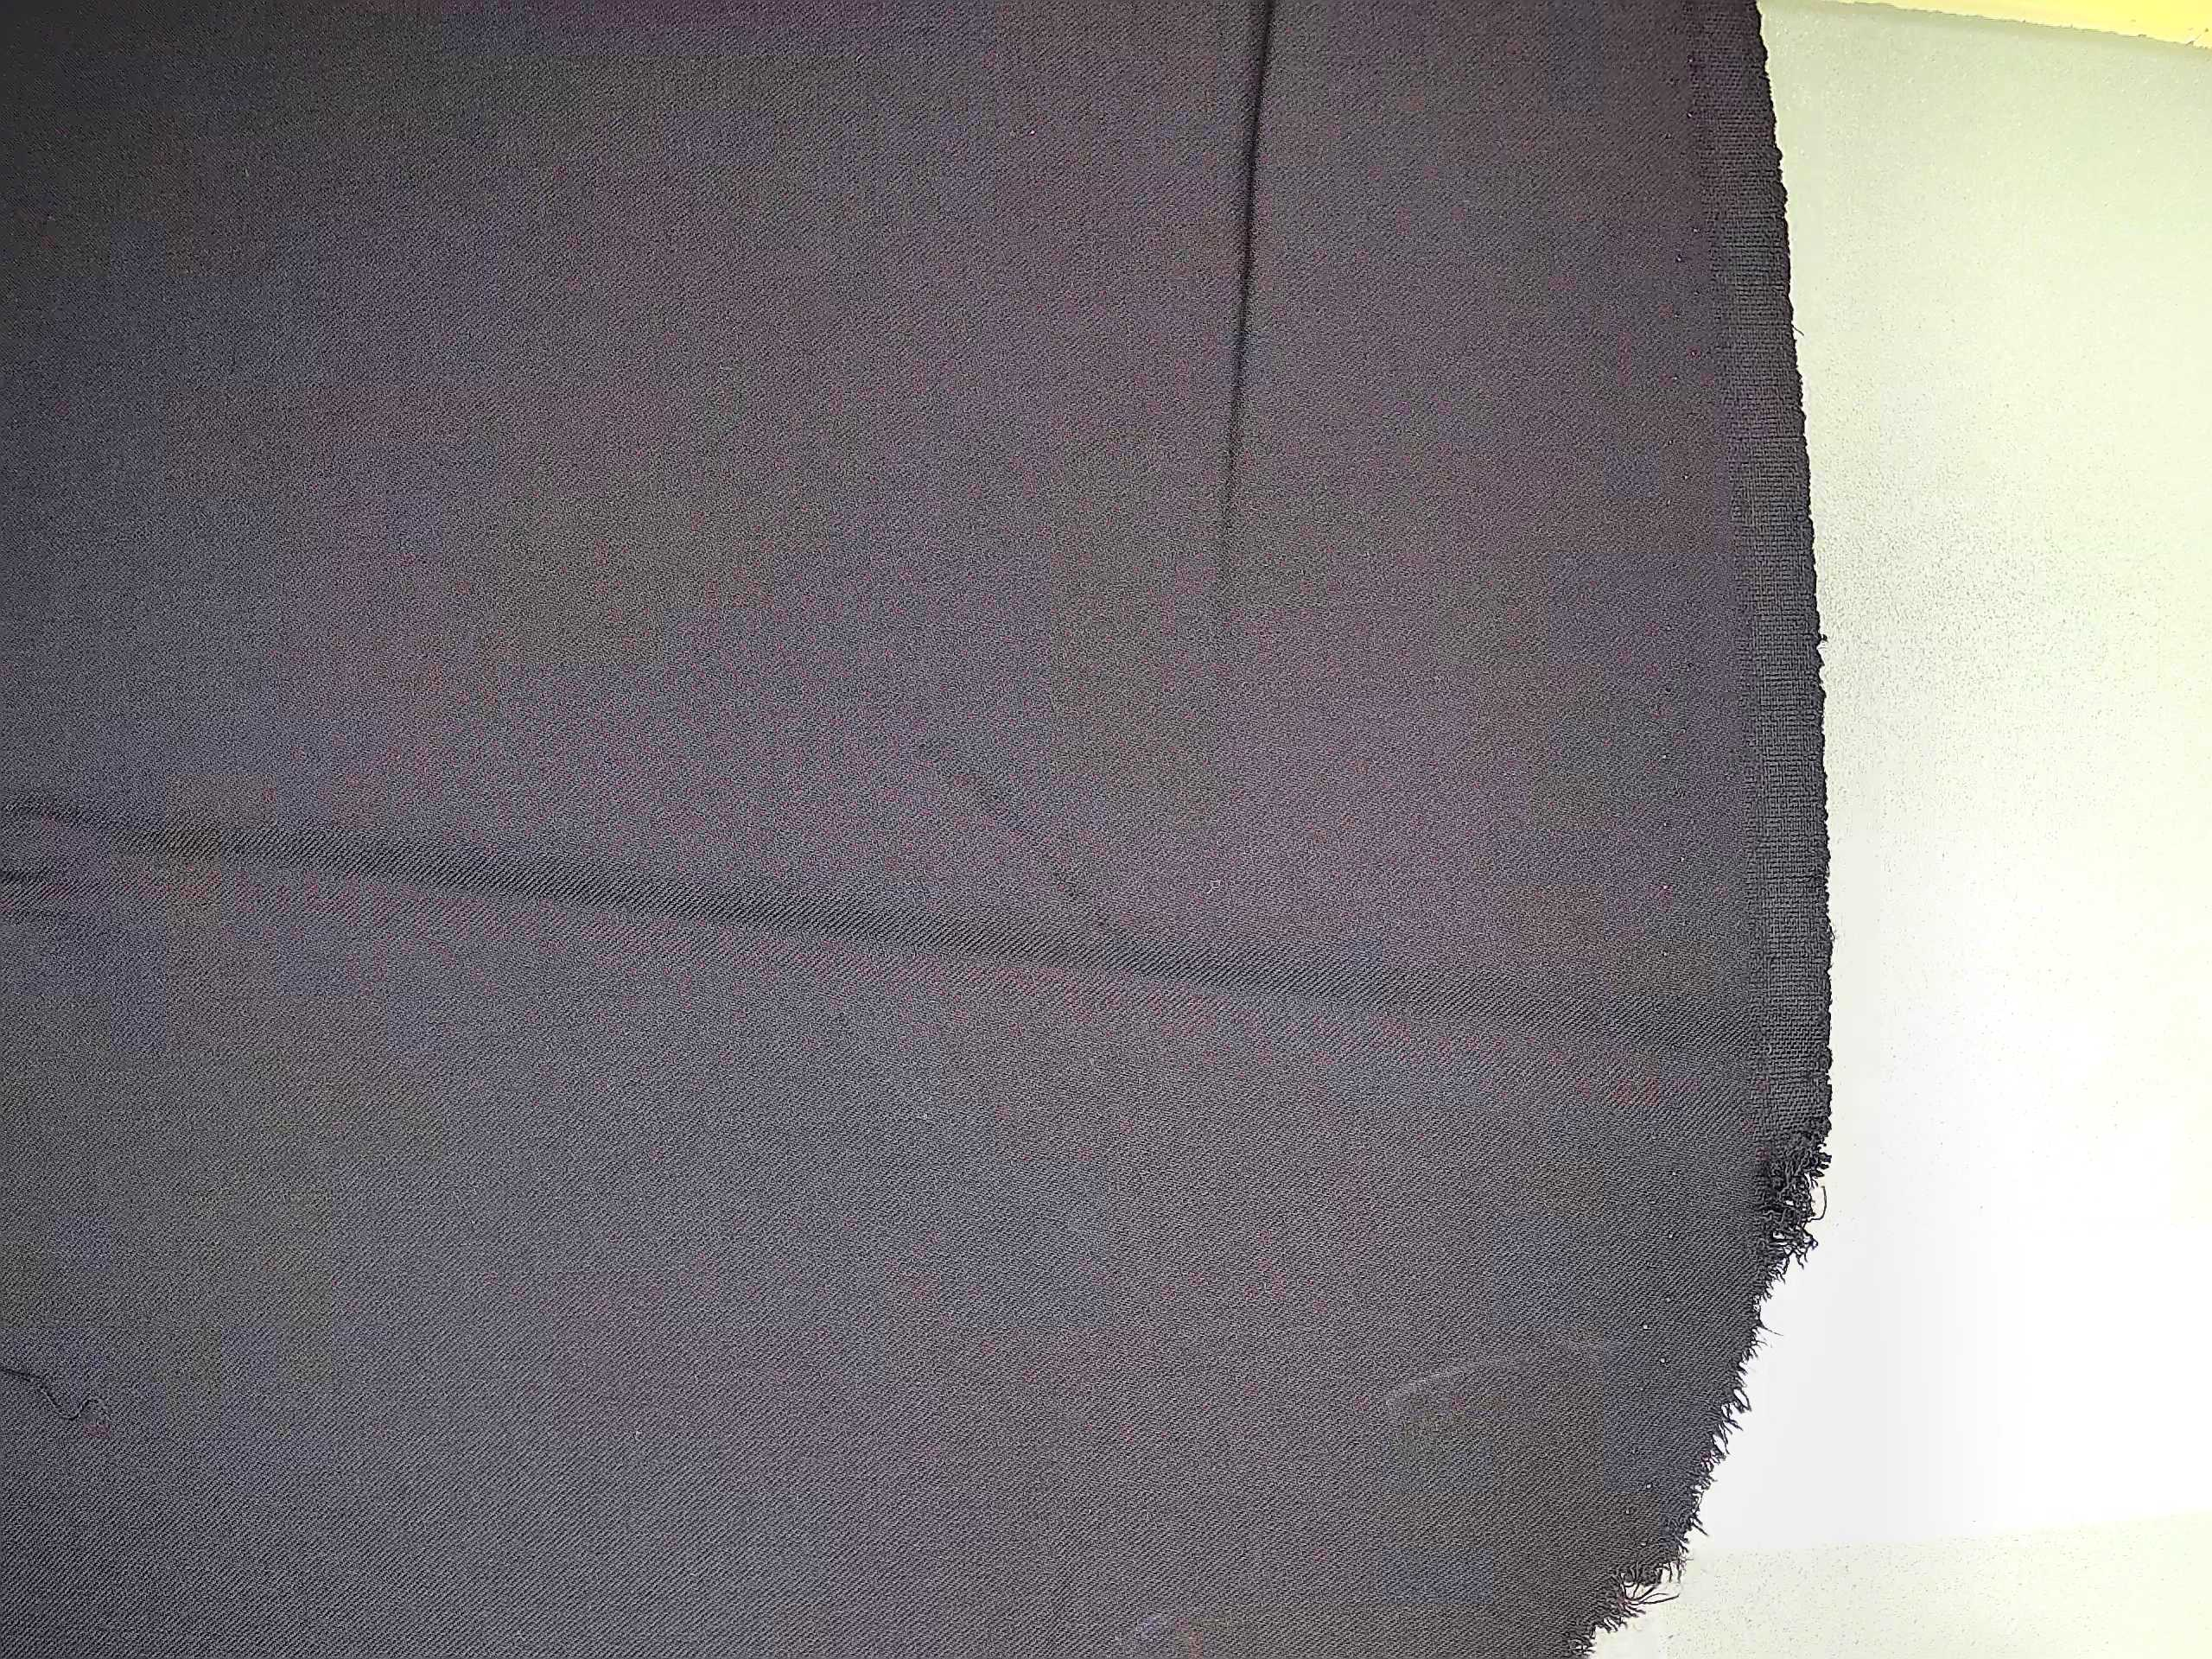others: (1527, 1084, 1862, 1659)
